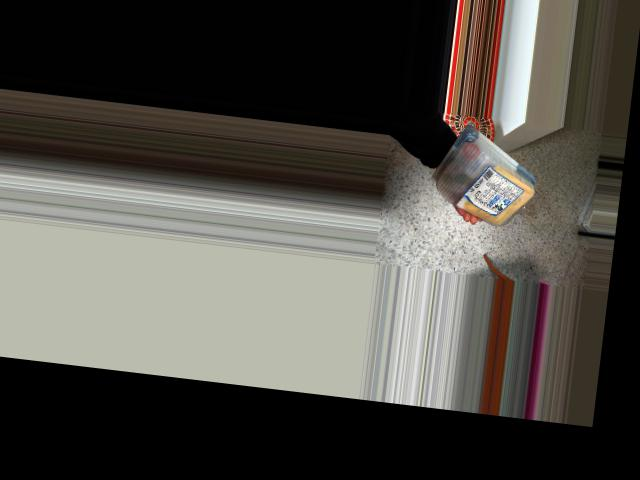cheese: (428, 128, 547, 231)
